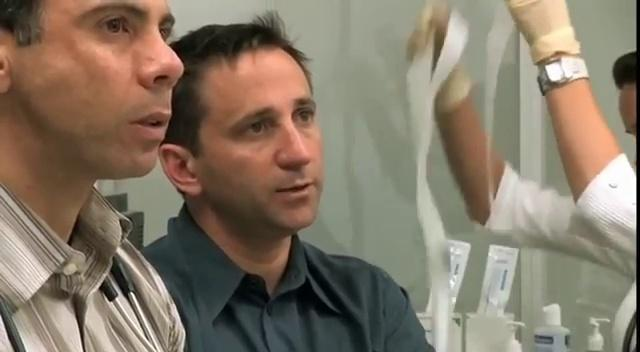doctor: (0, 0, 189, 350)
others: (138, 11, 436, 350), (417, 0, 640, 352), (418, 0, 635, 351)
